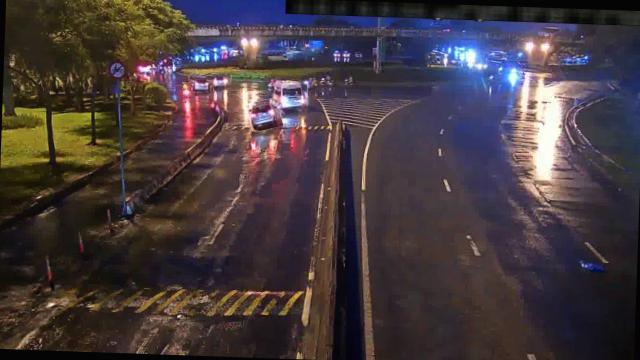Bus: (272, 80, 308, 110)
Car: (248, 98, 282, 132), (188, 74, 215, 94), (204, 74, 230, 90)
